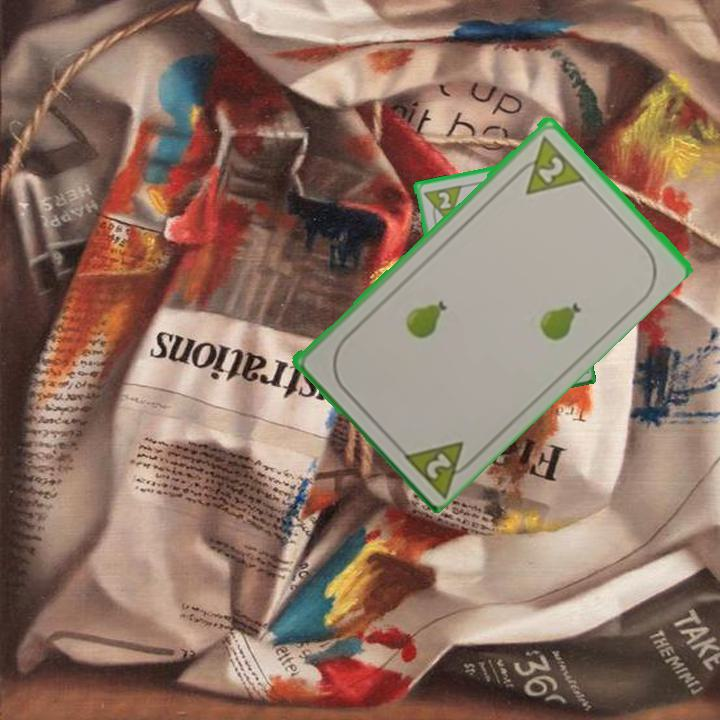2p: (397, 436, 482, 498), (508, 131, 586, 198), (434, 188, 454, 212)
